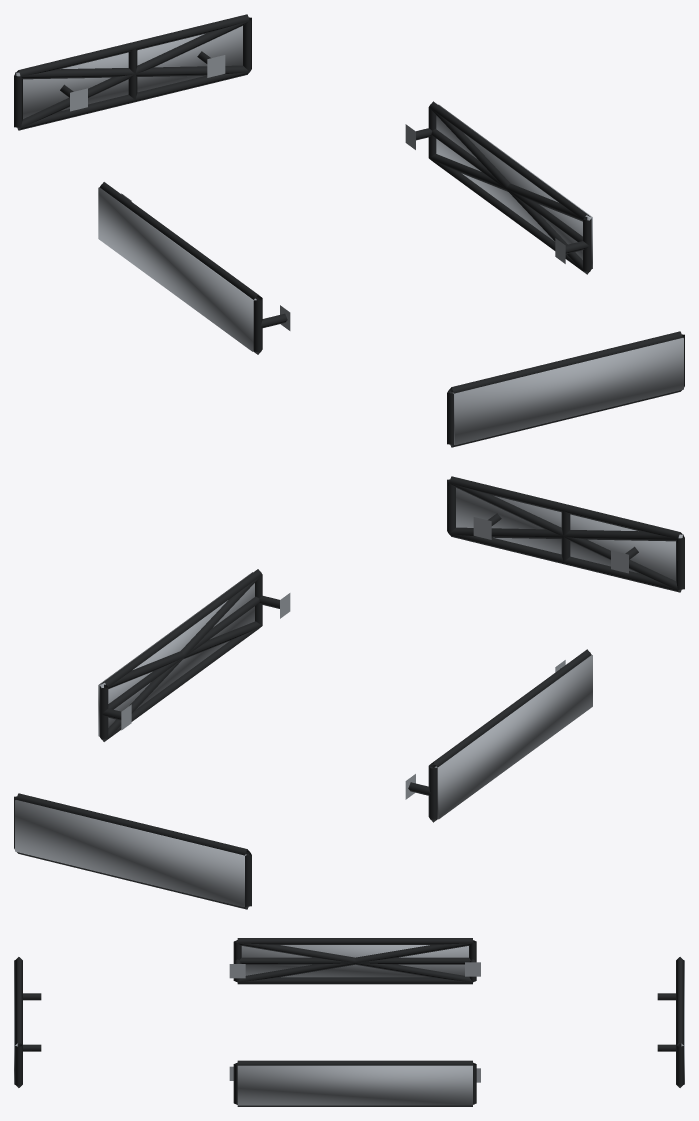
File: keldorf_azimute_protecao.glb
The picture shows the model from 3 angles, top to bottom: view 1: azimuth 30°, elevation 25°; view 2: azimuth 150°, elevation 25°; view 3: azimuth 270°, elevation 25°; orthographic projection. The views are drawn at different scales.
Parts seen in each view (by area): view 1: Protection_front_Level3_Details, Protection_left_Level3_Details, Protection_rear_Level1_Details, Protection_rear_Level3_Details, Protection_right_Level1_Details, Protection_rear_Level2_Details, Protection_right_Level2_Details, Protection_right_Level3_Details, Protection_front_Level1_Details, Protection_left_Level1_Details; view 2: Protection_rear_Level3_Details, Protection_left_Level3_Details, Protection_front_Level1_Details, Protection_front_Level3_Details, Protection_right_Level1_Details, Protection_front_Level2_Details, Protection_right_Level2_Details, Protection_right_Level3_Details, Protection_rear_Level1_Details, Protection_left_Level1_Details; view 3: Protection_right_Level3_Details, Protection_left_Level2_Details, Protection_left_Level1_Details, Protection_left_Level3_Details, Protection_right_Level1_Details, Protection_rear_Level1_Details, Protection_front_Level1_Details.
Boxes of the visible parts, box(x1,y1,x2,y2) form: Protection_front_Level3_Details: box(452, 338, 683, 445); Protection_left_Level3_Details: box(98, 187, 256, 351); Protection_rear_Level1_Details: box(14, 14, 251, 130); Protection_rear_Level3_Details: box(15, 26, 242, 118); Protection_right_Level1_Details: box(405, 101, 591, 274); Protection_rear_Level2_Details: box(16, 21, 249, 129); Protection_right_Level2_Details: box(429, 108, 590, 273); Protection_right_Level3_Details: box(436, 104, 592, 268); Protection_front_Level1_Details: box(447, 331, 684, 447); Protection_left_Level1_Details: box(99, 182, 290, 354); Protection_rear_Level3_Details: box(15, 800, 246, 907); Protection_left_Level3_Details: box(434, 655, 592, 819); Protection_front_Level1_Details: box(447, 476, 684, 592); Protection_front_Level3_Details: box(456, 488, 683, 580); Protection_right_Level1_Details: box(99, 569, 290, 741); Protection_front_Level2_Details: box(449, 483, 682, 591); Protection_right_Level2_Details: box(100, 575, 261, 741); Protection_right_Level3_Details: box(98, 572, 254, 736); Protection_rear_Level1_Details: box(14, 793, 251, 909); Protection_left_Level1_Details: box(405, 649, 591, 822); Protection_right_Level3_Details: box(237, 1065, 472, 1105); Protection_left_Level2_Details: box(237, 941, 473, 982); Protection_left_Level1_Details: box(229, 938, 480, 984); Protection_left_Level3_Details: box(241, 945, 468, 977); Protection_right_Level1_Details: box(229, 1060, 480, 1106); Protection_rear_Level1_Details: box(657, 957, 683, 1087); Protection_front_Level1_Details: box(15, 957, 41, 1087).
Bounding box in the file's own units: 2.08 × 0.354 × 4.65.
Materials: 1 (1 with a texture image).
